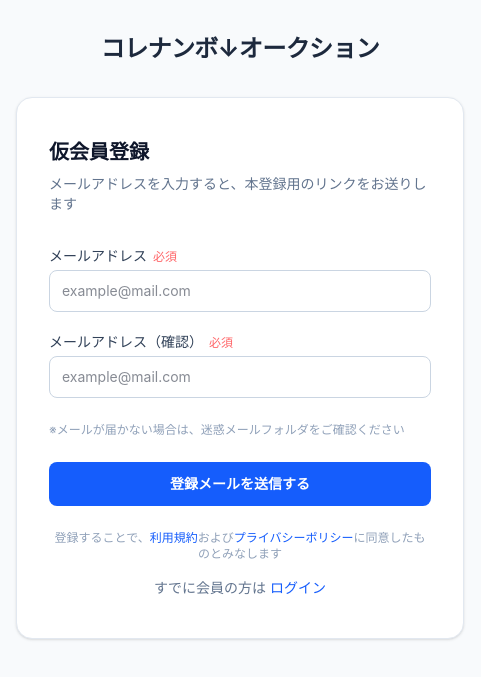
Test: UserRegistrationPage › クライアントサイドバリデーション › 空のまま送信するとメールアドレスのエラーが表示される
Step 1. Click the button "登録メールを送信する" → [240, 484], box top-left (49, 462), bottom-right (431, 506)
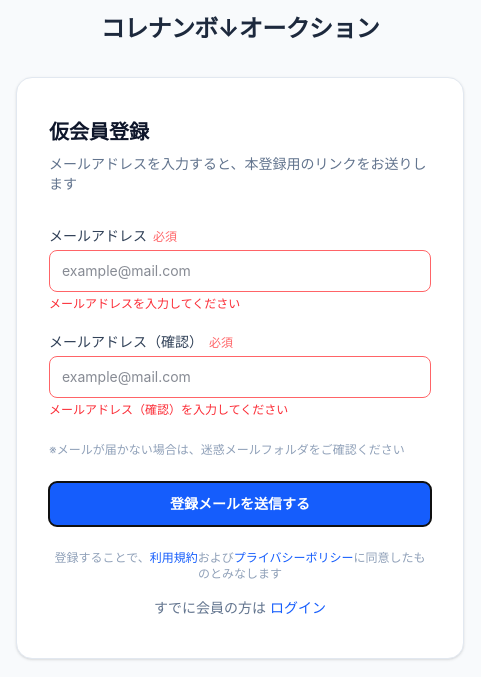
Check: the text "メールアドレスを入力してください" is shown, box top-left (49, 296), bottom-right (240, 311)
